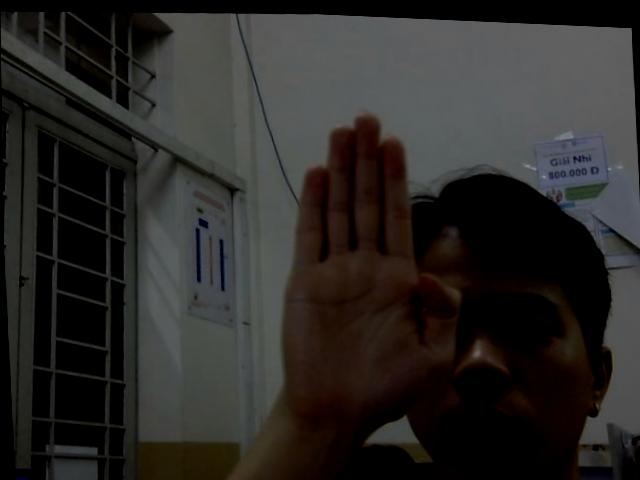B: (262, 100, 466, 425)
